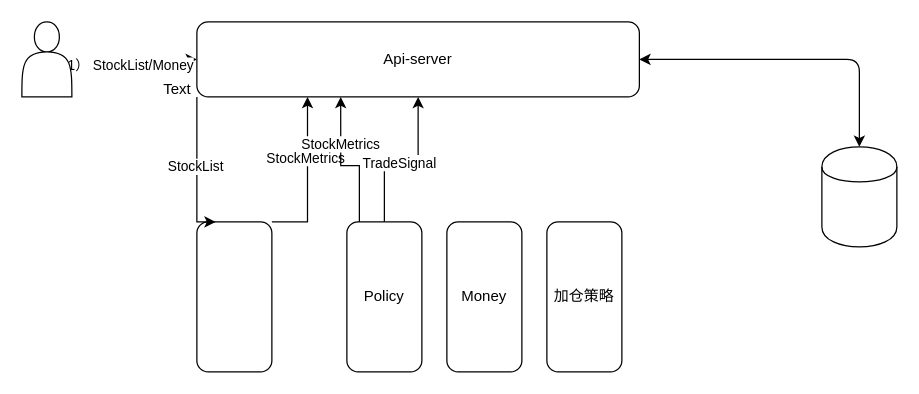
The diagram is 919 pixels wide and 394 high, and some of its shapes have lost their labels. Here are the shapes that lost their labels. From the top down, the box of each, then its label:
(821, 146, 897, 247): Etcd
(196, 221, 272, 372): Updater
